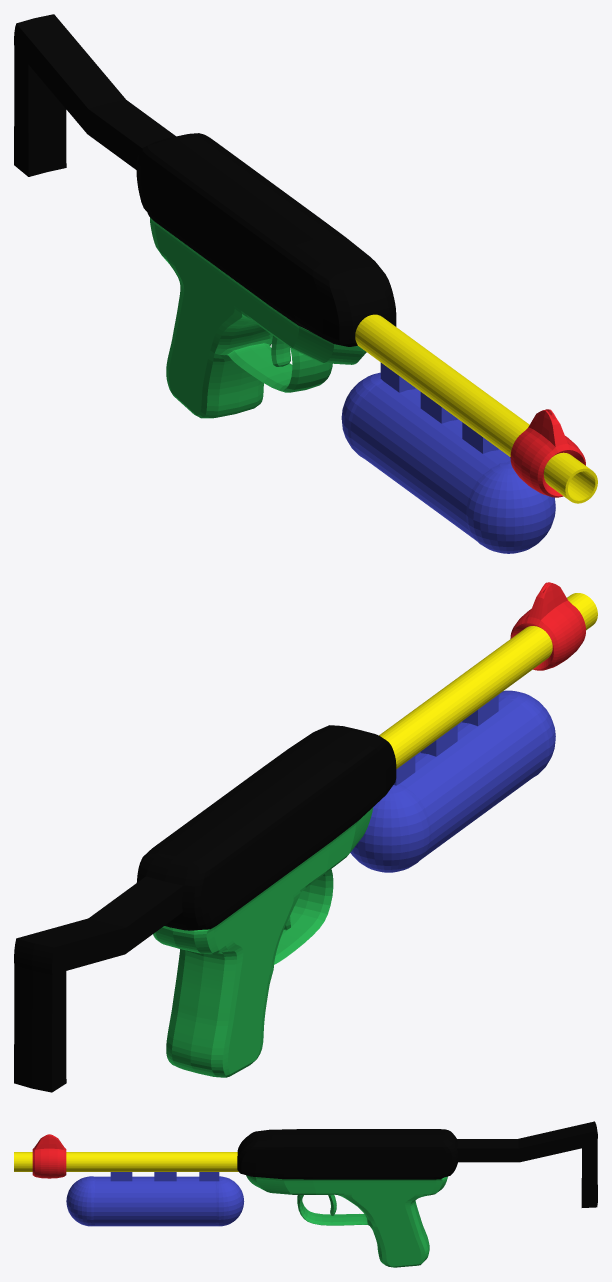
File: Rifle.fbx
3 views of the same model, one above another, from view 1: azimuth 30°, elevation 25°; view 2: azimuth 150°, elevation 25°; view 3: azimuth 270°, elevation 25° (orthographic). The views are drawn at different scales.
Visible parts, largest first — view 1: Pistol; view 2: Pistol; view 3: Pistol.
Boxes of the visible parts, x1,y1,x2,y2 form: Pistol: [14, 14, 597, 553]; Pistol: [14, 582, 597, 1092]; Pistol: [14, 1121, 597, 1267].
Size of the model in its own units: 4.42 by 13.13 by 51.5.
